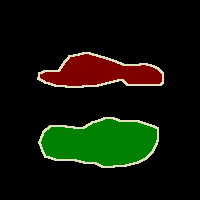shoe: (39, 118, 158, 167), (38, 52, 163, 87)
